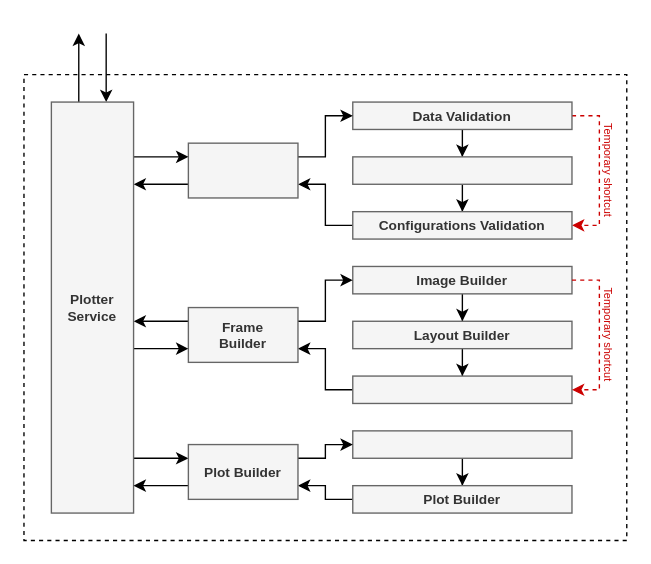
This 651x564 diagram has some shape labels left out. The shapes that lost their labels are listed below. From the top down, each one's box as (x1, y1, x2, y2) in pixels, then its label:
(187, 142, 298, 198): Validation
(351, 155, 572, 184): Plotting Validation
(351, 375, 572, 403): Graph Builder
(351, 429, 572, 458): Data Builder
